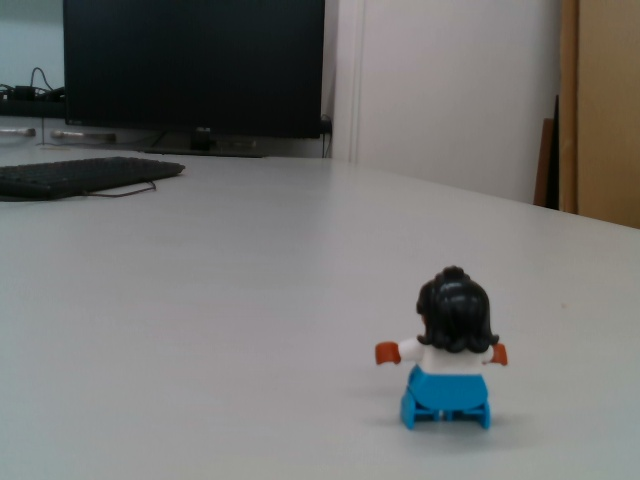people: (371, 263, 511, 431)
